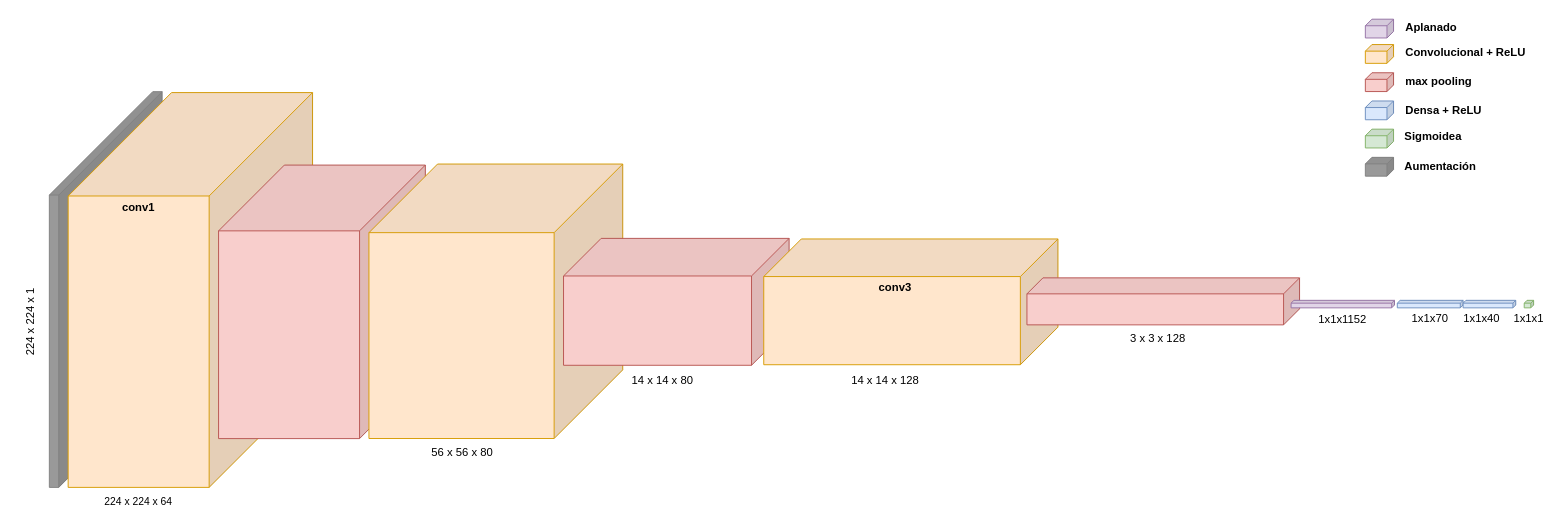
The diagram is 1559 pixels wide and 531 high, and some of its shapes have lost their labels. The box of each missing label's shape, as (x1, y1, x2, y2) in pixels:
56 x 56 x 64: (67, 92, 313, 487)
conv2: (368, 163, 623, 439)
